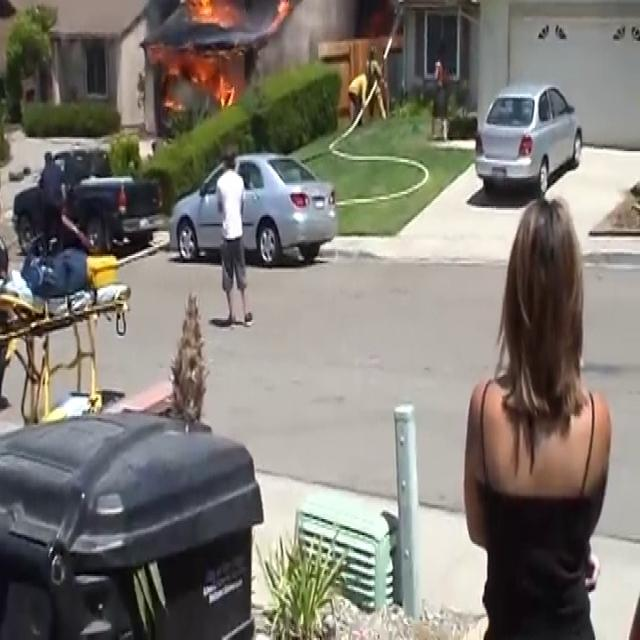Fire: (192, 50, 241, 103), (181, 0, 233, 28)
